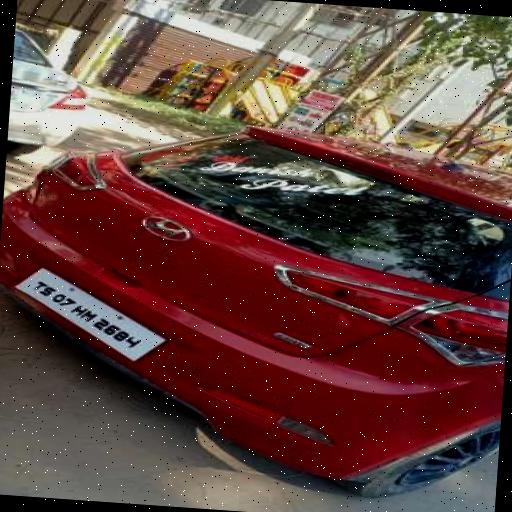license_plate`: (8, 264, 170, 363)
